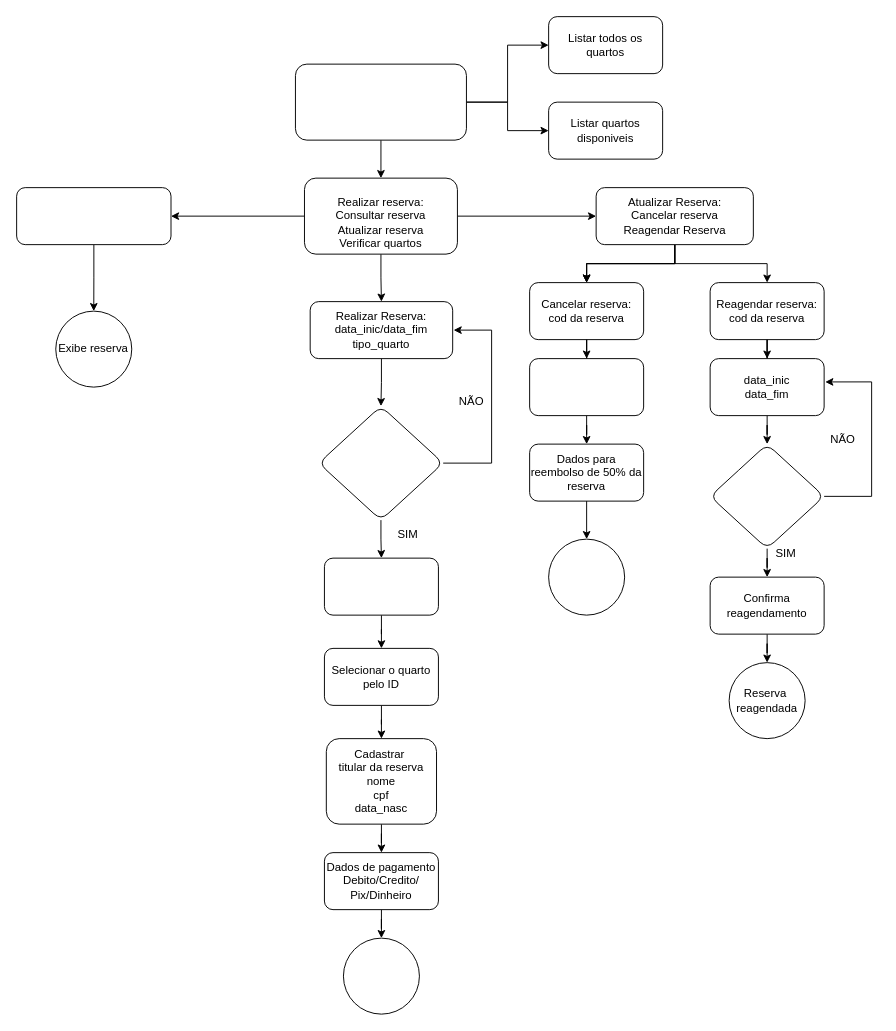
Image size: 896x1031. Some labels were removed from this diagram. The box of each missing label's shape, as (x1, y1, x2, y2) in pixels:
Confirmar cancelamento da reserva: (529, 358, 644, 416)
Consulta reserva: codigo da reserva verifica estado da reserva: (16, 187, 171, 245)
Exibe quartos disponiveis e a descrição: (323, 557, 438, 615)
Menu Listar todos os quartos Listar quartos disponiveis Realizar Reserva Sair: (294, 63, 466, 140)
Reserva cancelada: (548, 538, 625, 615)
Reserva realizada: (342, 937, 419, 1014)
Verifica data de reagendamento disponivel: (709, 443, 824, 549)
verifica se datas disponiveis / qtd de quartos disponiveis: (318, 405, 443, 520)
